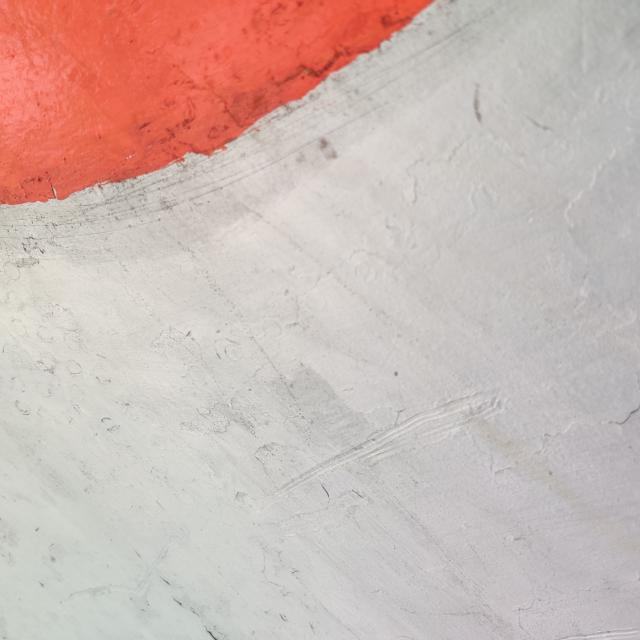scratch: (255, 368, 512, 525)
